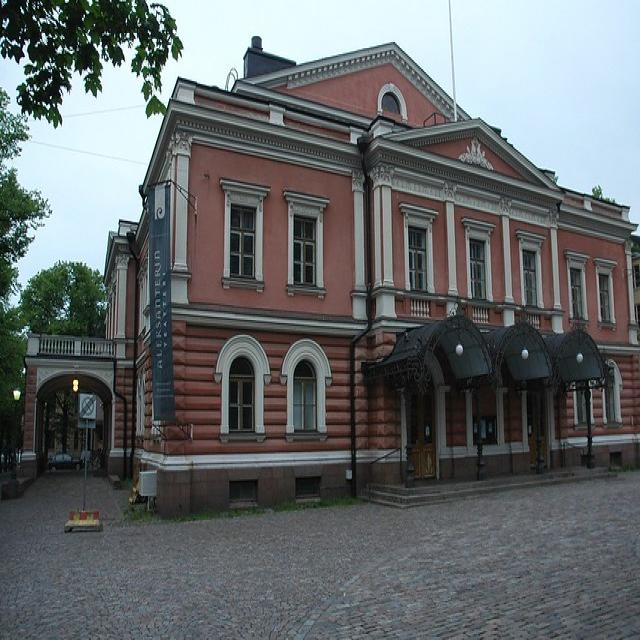Normal_building: (100, 35, 640, 516)
